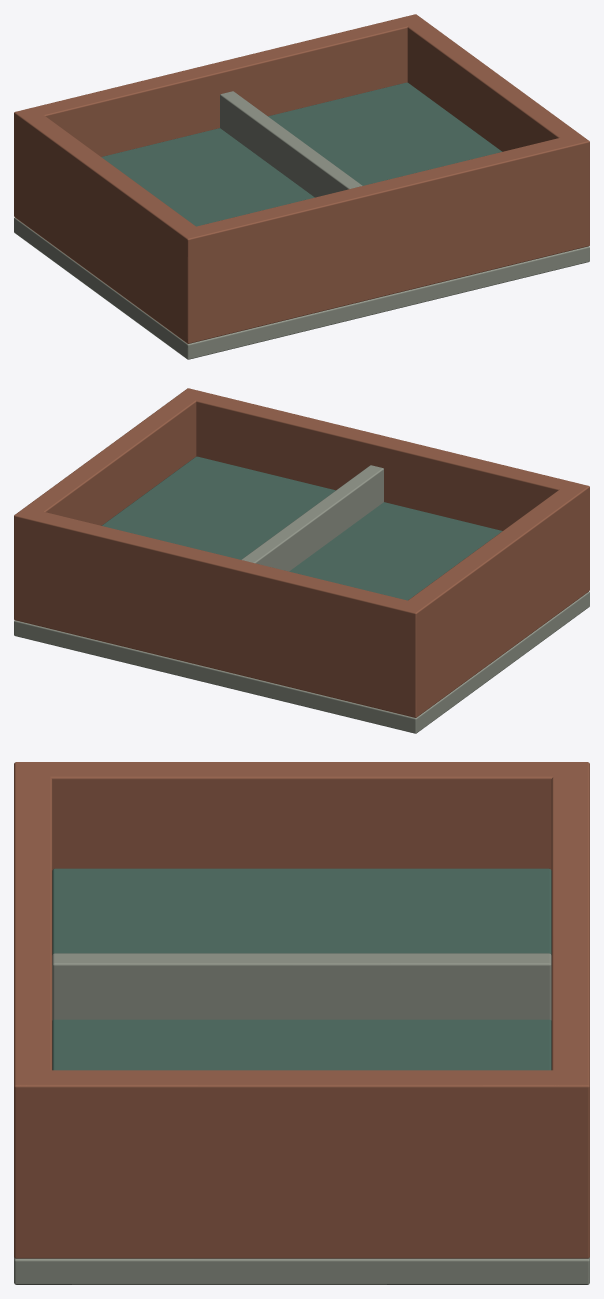
Rendered from undercity-sewers-and-thieves-den-settling-tank-252e41ca__25051.glb.
The picture shows the model from 3 angles, top to bottom: view 1: azimuth 30°, elevation 25°; view 2: azimuth 150°, elevation 25°; view 3: azimuth 270°, elevation 25°; orthographic projection. The views are drawn at different scales.
Visible parts, largest first — view 1: settling-tank; view 2: settling-tank; view 3: settling-tank.
Boxes of the visible parts, x1,y1,x2,y2 form: settling-tank: [14, 14, 589, 359]; settling-tank: [14, 388, 589, 733]; settling-tank: [14, 762, 589, 1284].
Size of the model in its own units: 4 by 1.15 by 3.
